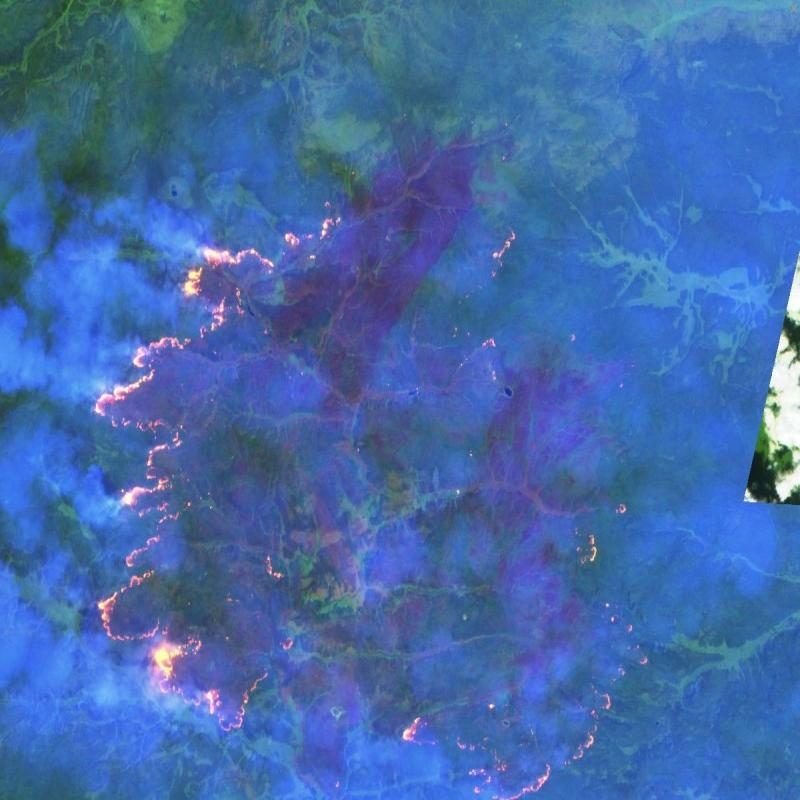fire: (83, 204, 339, 736), (388, 706, 621, 800)
